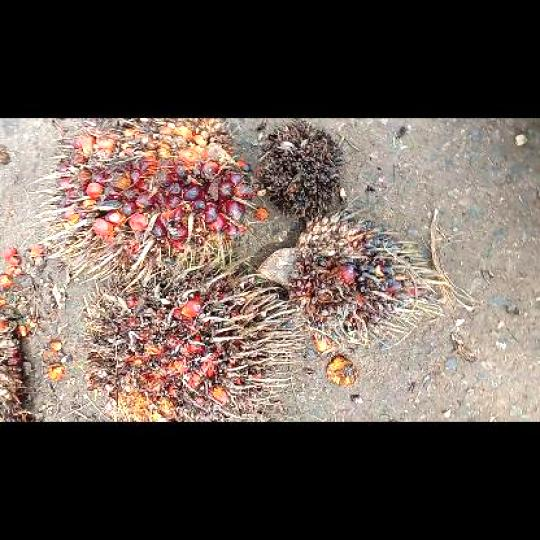masak: (33, 120, 253, 294)
terlalu masak: (78, 272, 311, 421)
